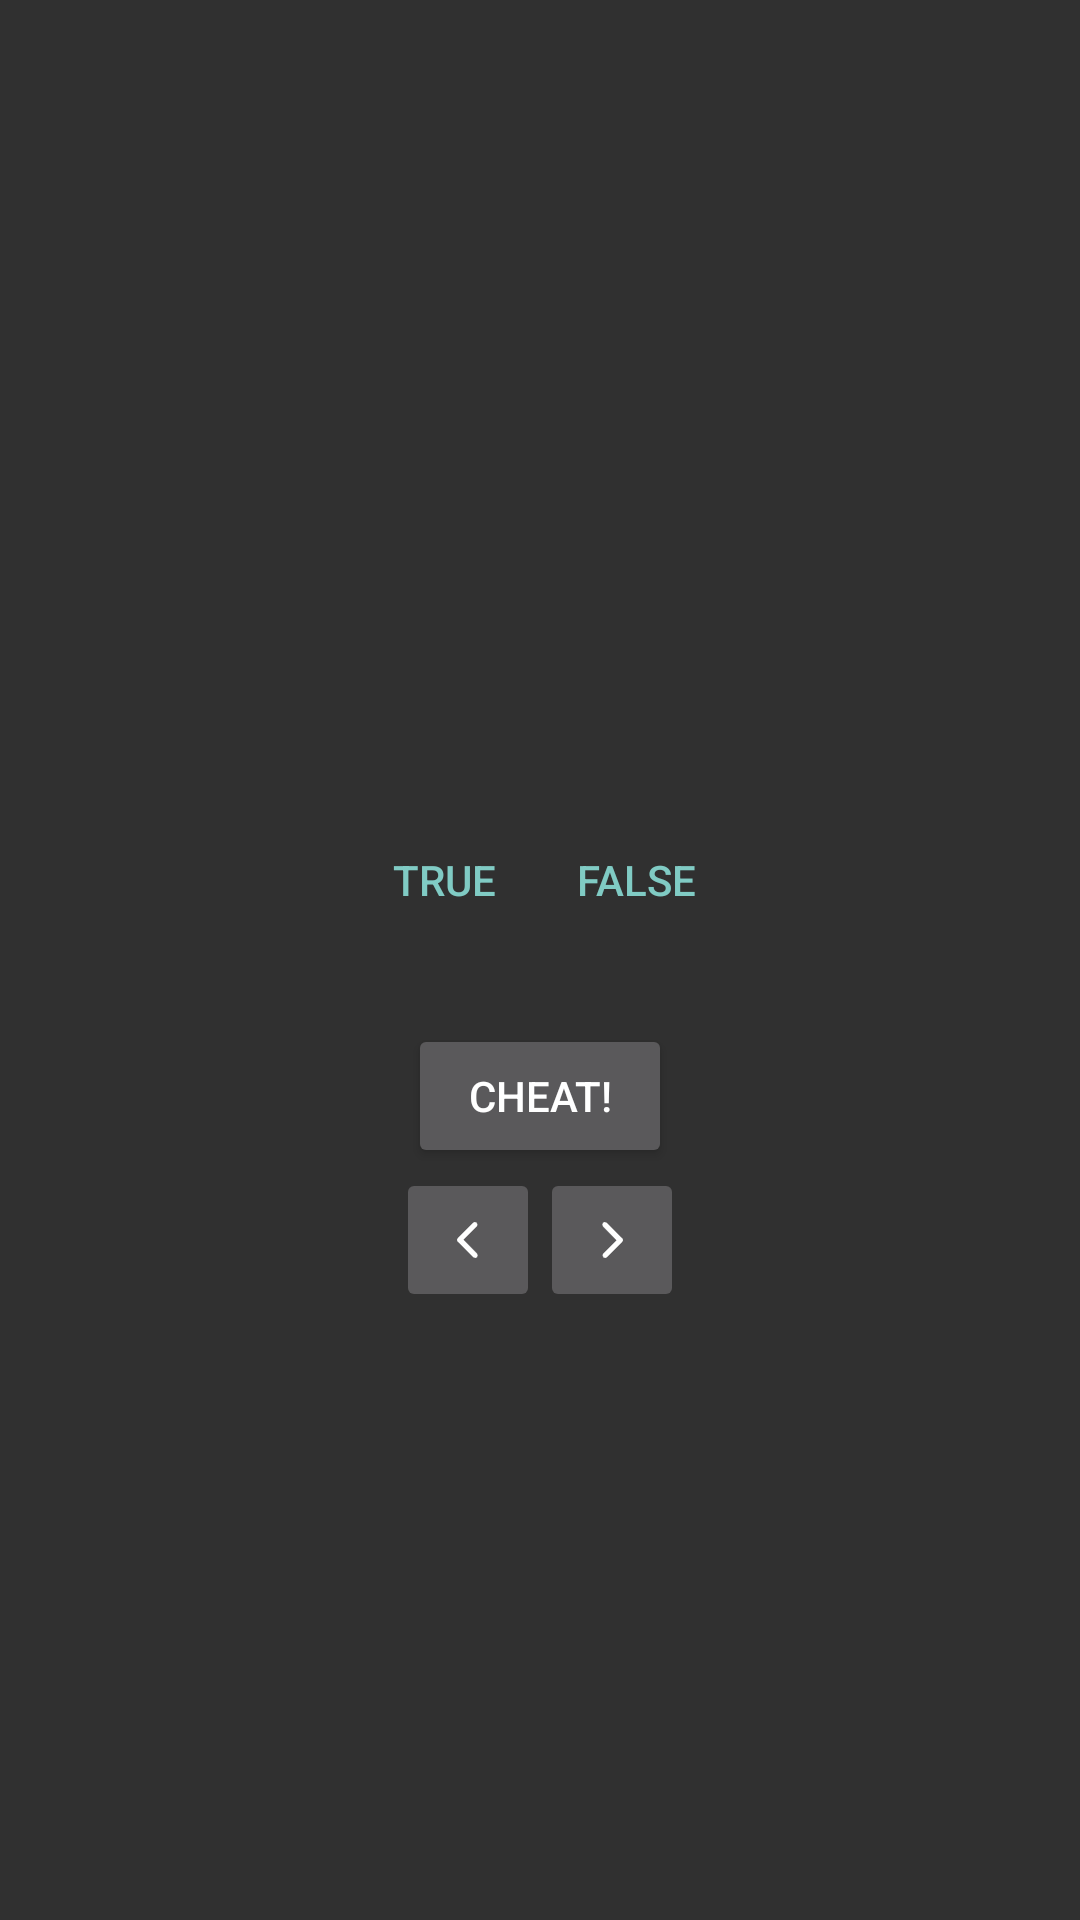

Where to tap for icons on this 1080x1920 app screen, as (x=x, y=y):
NEXT: (x=612, y=1240)
PRE: (x=468, y=1240)
